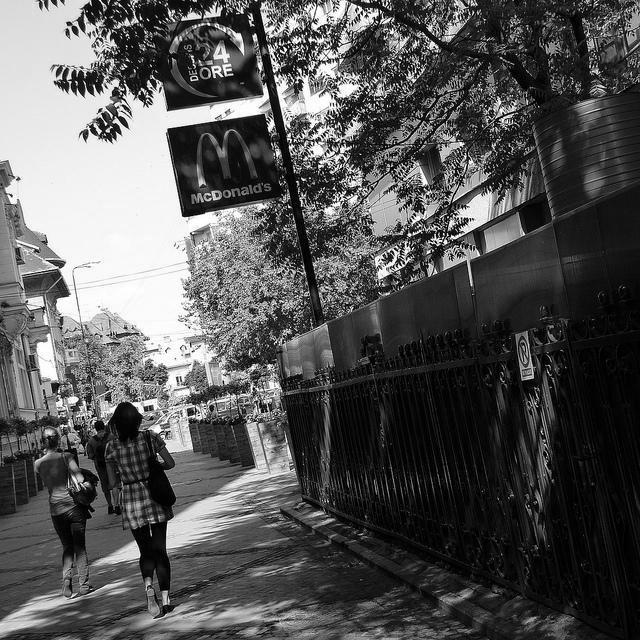vehicle: (147, 404, 207, 434), (206, 399, 238, 417), (143, 409, 169, 418)
